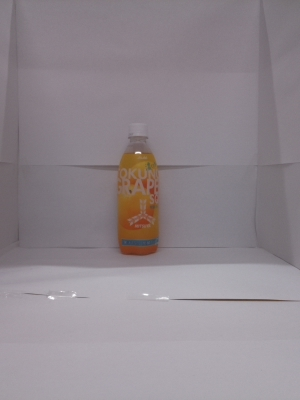グレープフルーツスカッシュ: (109, 118, 170, 263)
